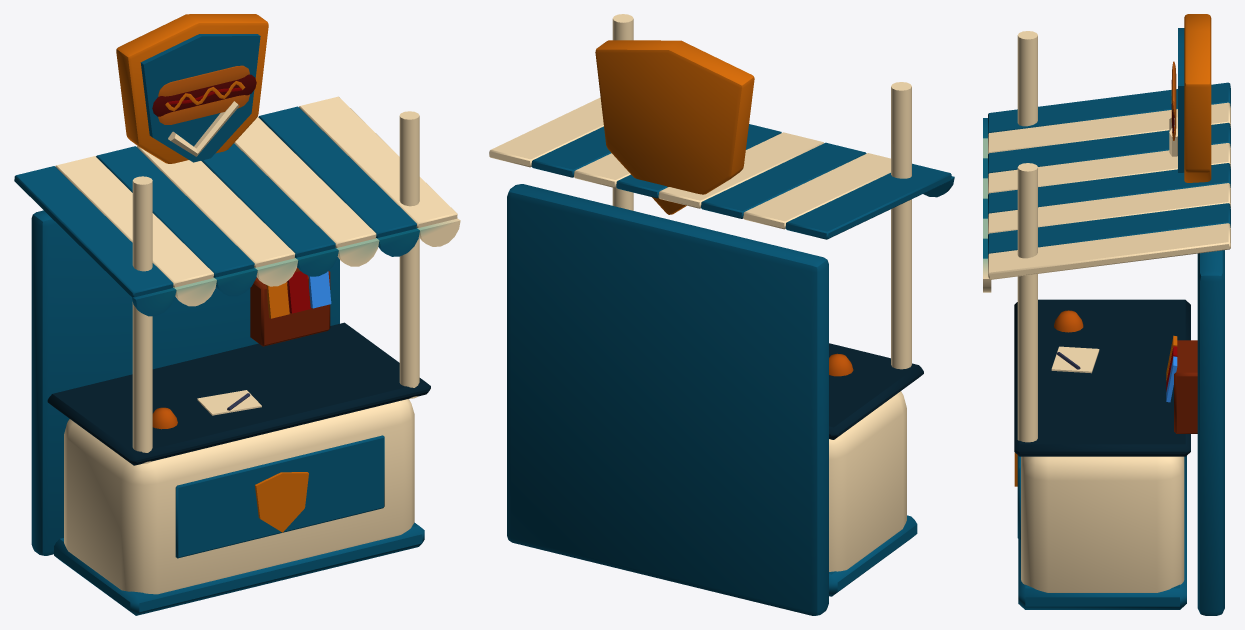
Rendered from InsuranceBooth.obj.
The picture shows the model from 3 angles, left to right: view 1: azimuth 30°, elevation 25°; view 2: azimuth 150°, elevation 25°; view 3: azimuth 270°, elevation 25°; orthographic projection. The views are drawn at different scales.
Parts seen in each view (by area): view 1: InsuranceBooth; view 2: InsuranceBooth; view 3: InsuranceBooth.
Boxes of the visible parts, bbox=[...] form: InsuranceBooth: bbox=[14, 14, 460, 615]; InsuranceBooth: bbox=[489, 14, 954, 615]; InsuranceBooth: bbox=[983, 14, 1230, 615].
Bounding box in the file's own units: 5.6 × 8.34 × 3.65.
